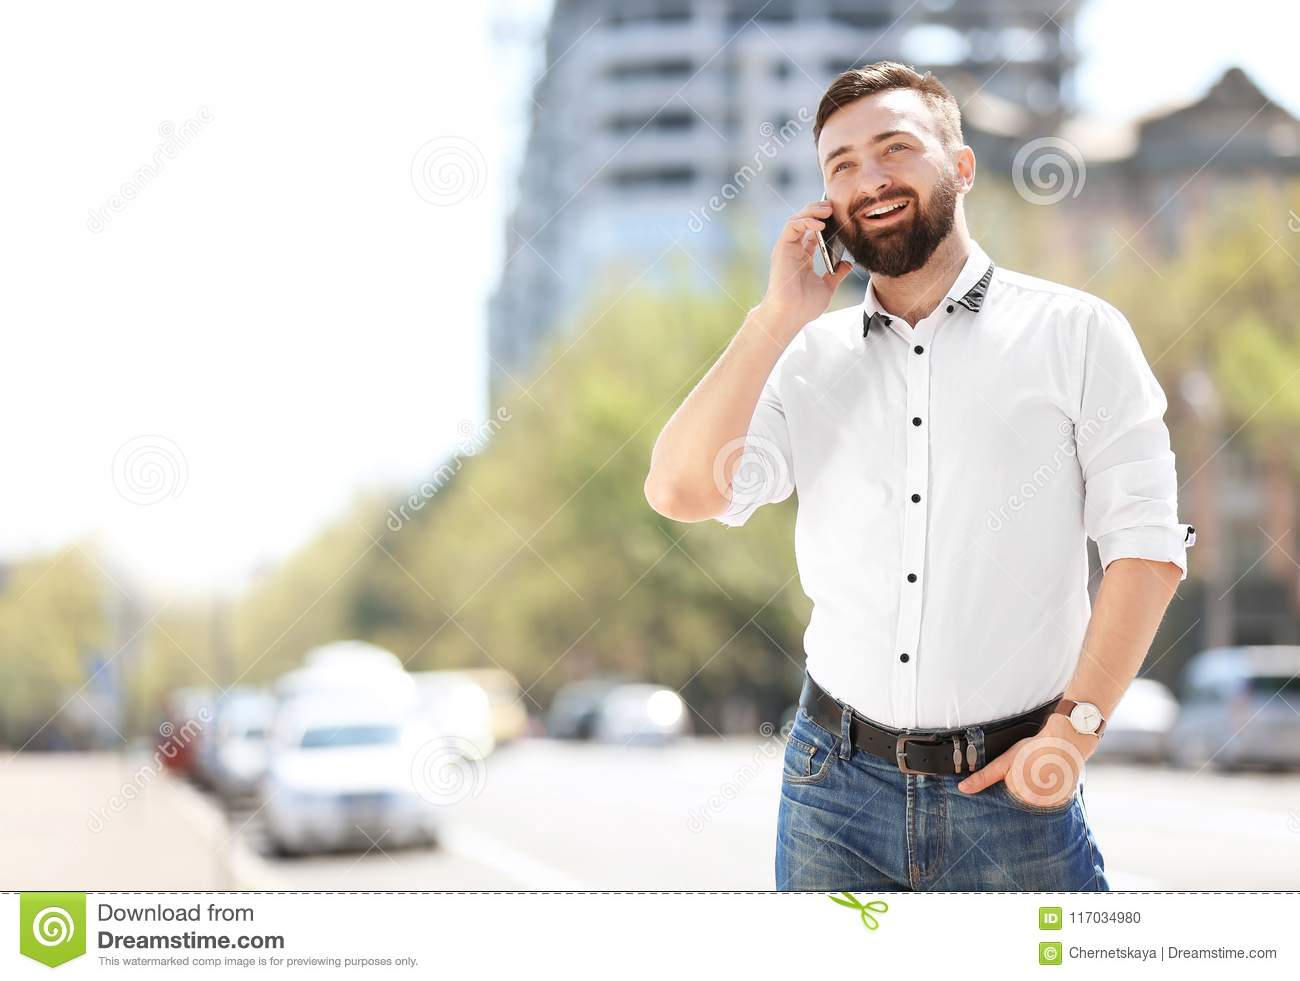phone: (811, 190, 843, 277)
talk: (762, 123, 930, 313)
